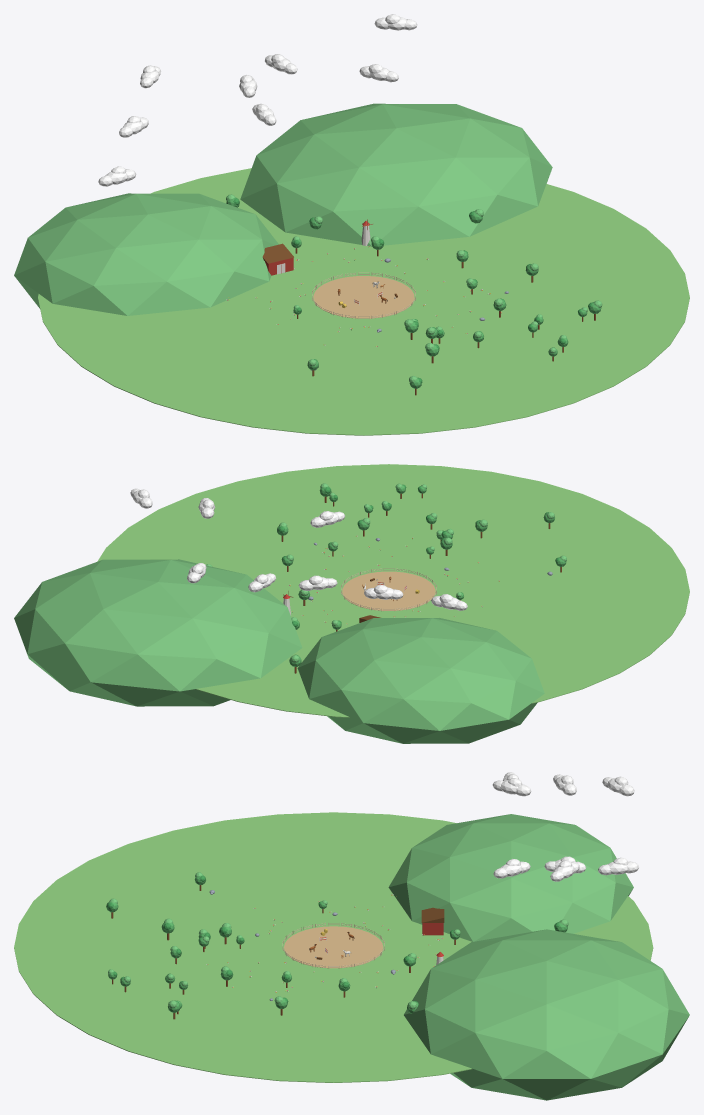
The model's file is Horse_World.fbx.
The picture shows the model from 3 angles, top to bottom: view 1: azimuth 30°, elevation 25°; view 2: azimuth 150°, elevation 25°; view 3: azimuth 270°, elevation 25°; orthographic projection. The views are drawn at different scales.
Visible parts, largest first — view 1: Ground.001, Hill.002, Hill.001, Paddock.001, Barn.001; view 2: Ground.001, Hill.002, Hill.001, Paddock.001, Cloud.002, Cloud.003; view 3: Ground.001, Hill.002, Hill.001, Paddock.001, Barn.001, Cloud.006.
Boxes of the visible parts, <box> form: Ground.001: <box>38,168,689,435</box>; Hill.002: <box>240,103,552,246</box>; Hill.001: <box>14,193,278,315</box>; Paddock.001: <box>313,276,414,318</box>; Barn.001: <box>262,243,293,275</box>; Ground.001: <box>97,464,689,717</box>; Hill.002: <box>14,559,302,706</box>; Hill.001: <box>297,618,544,743</box>; Paddock.001: <box>342,571,435,610</box>; Cloud.002: <box>364,584,403,599</box>; Cloud.003: <box>298,575,337,590</box>; Ground.001: <box>14,812,653,1082</box>; Hill.002: <box>404,929,689,1100</box>; Hill.001: <box>388,814,633,941</box>; Paddock.001: <box>284,926,383,968</box>; Barn.001: <box>421,907,444,935</box>; Cloud.006: <box>598,857,639,875</box>.
Bounding box in the file's own units: 180 × 65.56 × 190.
